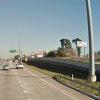Car: (14, 57, 25, 72)
